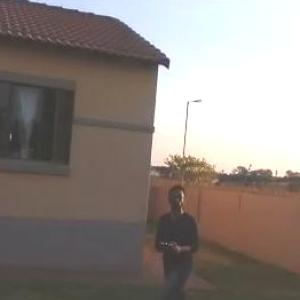follow: (141, 174, 207, 299)
